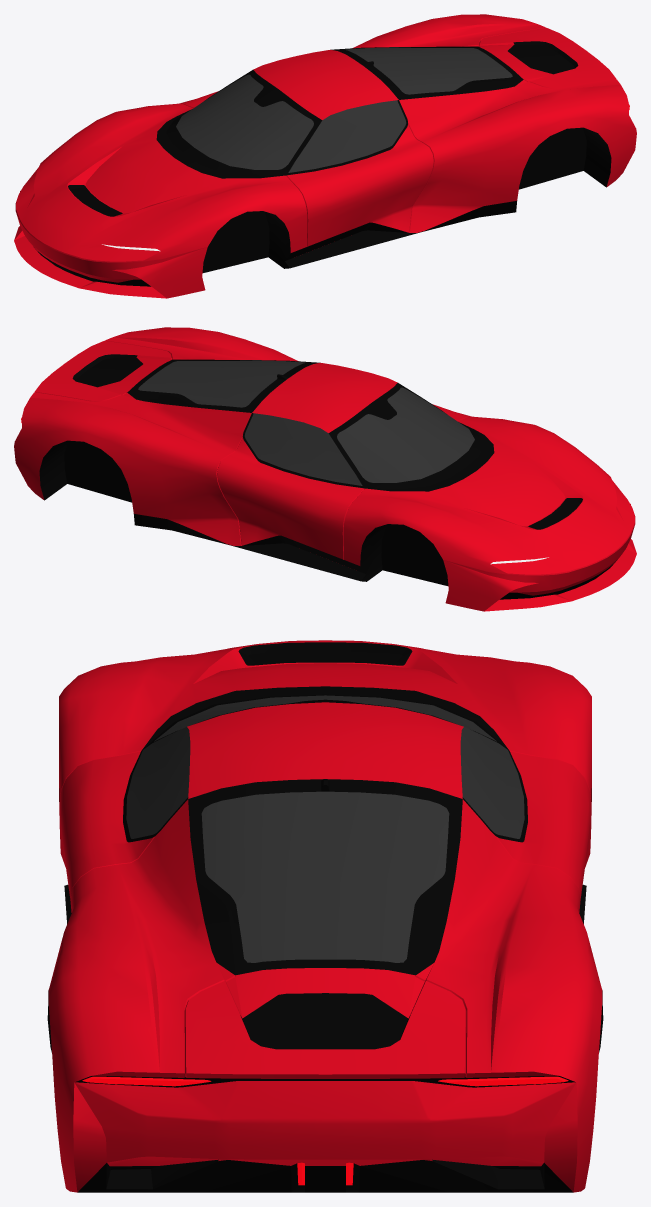
The model's file is car.glb.
The picture shows the model from 3 angles, top to bottom: view 1: azimuth 30°, elevation 25°; view 2: azimuth 150°, elevation 25°; view 3: azimuth 270°, elevation 25°; orthographic projection. The views are drawn at different scales.
Parts seen in each view (by area): view 1: Body; view 2: Body; view 3: Body.
Part boxes in pixels (x1,y1,x2,y2): Body: [14, 14, 636, 298]; Body: [14, 327, 636, 611]; Body: [47, 640, 603, 1192].
Size of the model in its own units: 7.3 by 1.59 by 3.17.
